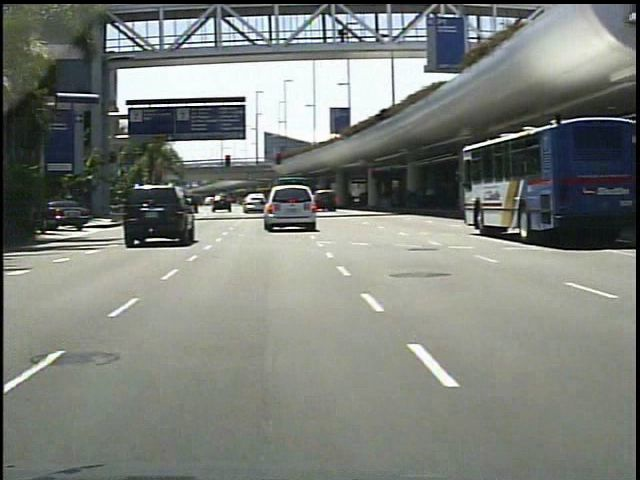person: (324, 25, 343, 50)
